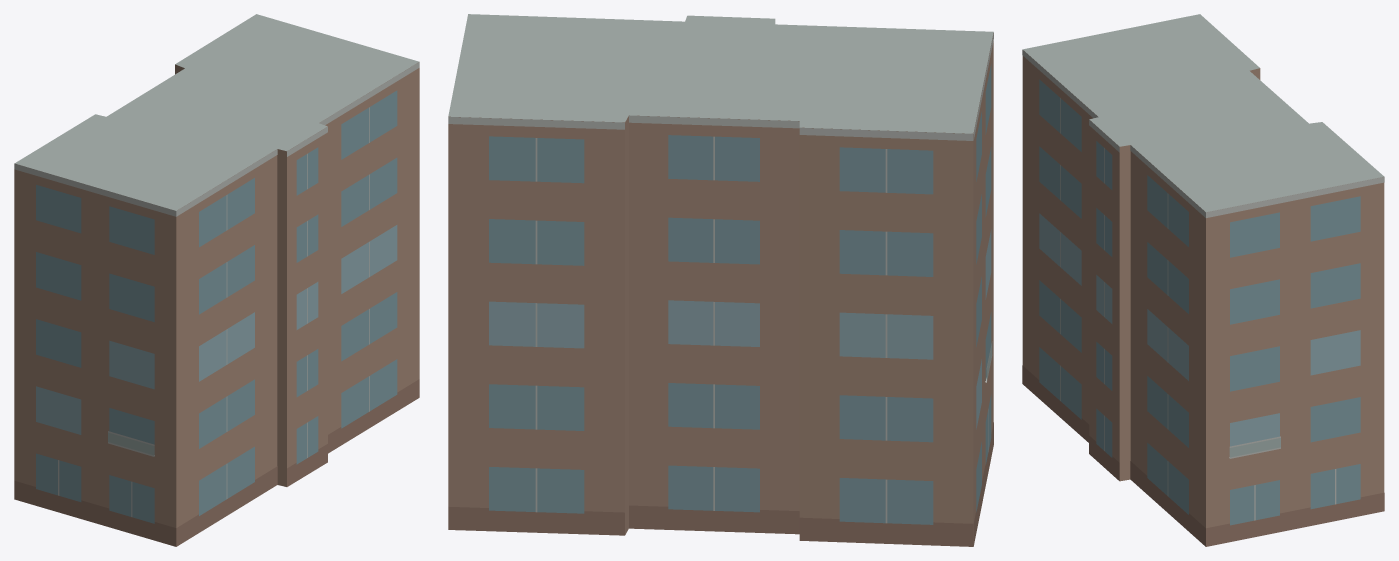
Rendered from survey-upis-32750867.glb.
3 views of the same model, side by side, from view 1: azimuth 30°, elevation 25°; view 2: azimuth 150°, elevation 25°; view 3: azimuth 270°, elevation 25° (orthographic). The views are drawn at different scales.
Parts seen in each view (by area): view 1: survey-upis-32750867.tmp; view 2: survey-upis-32750867.tmp; view 3: survey-upis-32750867.tmp.
Boxes of the visible parts, x1,y1,x2,y2 form: survey-upis-32750867.tmp: (14,14,419,546); survey-upis-32750867.tmp: (448,14,993,546); survey-upis-32750867.tmp: (1022,14,1384,546).
Size of the model in its own units: 17.55 by 13.8 by 13.54.
